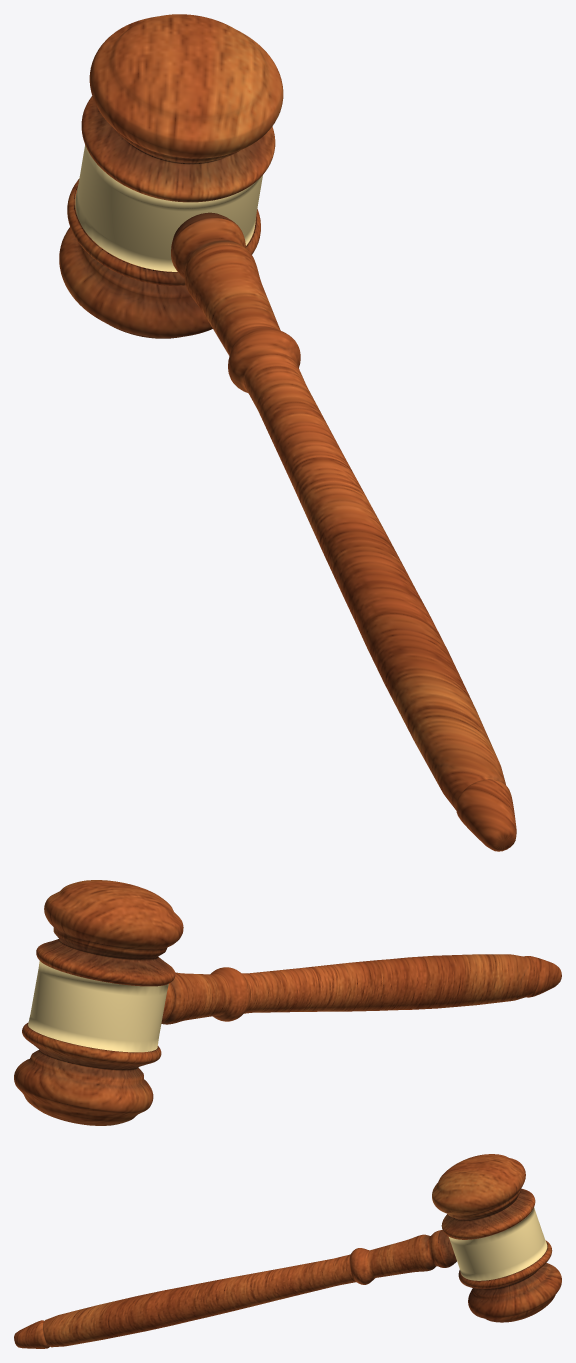
The model's file is gavel_modified.glb.
The picture shows the model from 3 angles, top to bottom: view 1: azimuth 30°, elevation 25°; view 2: azimuth 150°, elevation 25°; view 3: azimuth 270°, elevation 25°; orthographic projection. The views are drawn at different scales.
Visible parts, largest first — view 1: gavelMeshParent; view 2: gavelMeshParent; view 3: gavelMeshParent.
Part boxes in pixels (x1=…): gavelMeshParent: x1=59, y1=14, x2=516, y2=851; gavelMeshParent: x1=14, y1=880, x2=561, y2=1125; gavelMeshParent: x1=14, y1=1154, x2=561, y2=1348.
Bounding box in the file's own units: 0.4227 × 0.7106 × 1.59.
4 materials, 4 textured.
